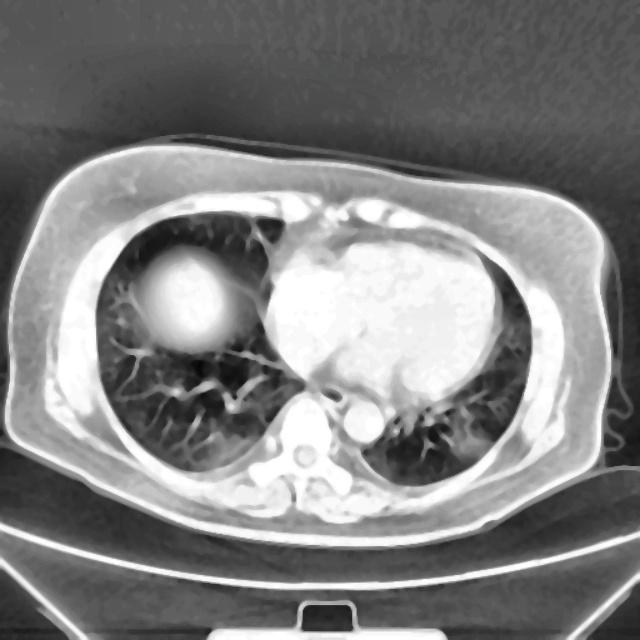covid: (2, 133, 624, 551)
